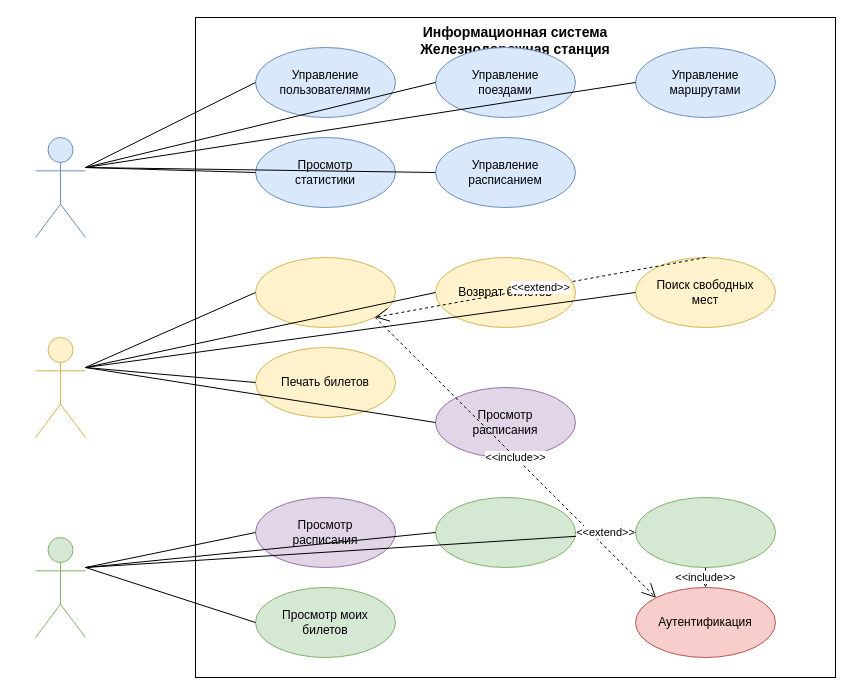
Some shapes in this 853 by 695 pixel diagram are drawn without their labels. Each missing label, with the centre of its shape:
"Администратор" goes at point 60,187.
"Бронирование билетов" goes at point 705,532.
"Кассир" goes at point 60,387.
"Пассажир" goes at point 60,587.
"Поиск рейсов" goes at point 505,532.
"Продажа билетов" goes at point 325,292.
